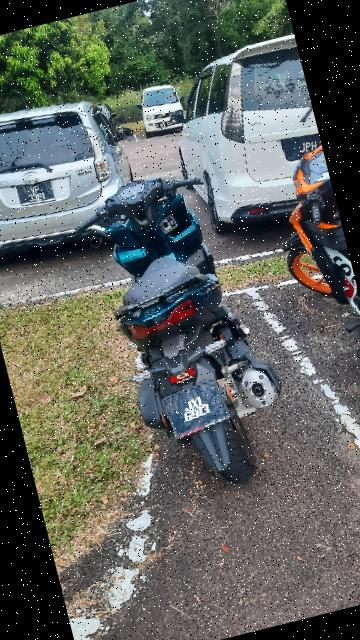License_Plate: (159, 377, 232, 442), (278, 126, 326, 167), (13, 174, 61, 212), (158, 122, 168, 130)
car: (165, 33, 340, 247), (1, 81, 150, 273), (132, 75, 189, 137)
motorcycle: (68, 154, 310, 513), (261, 117, 360, 371)
